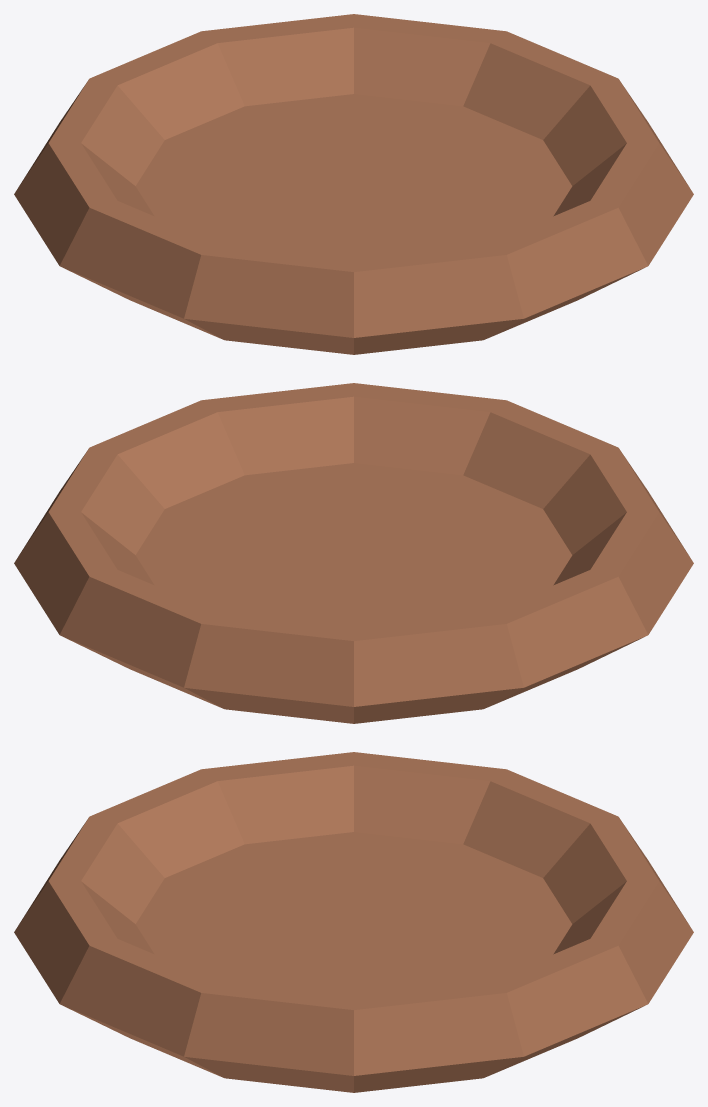
Rendered from Deco_Bowl_02.fbx.
3 renders of one model, top to bottom at view 1: azimuth 30°, elevation 25°; view 2: azimuth 150°, elevation 25°; view 3: azimuth 270°, elevation 25°, orthographic.
Parts seen in each view (by area): view 1: Deco_Bowl_02; view 2: Deco_Bowl_02; view 3: Deco_Bowl_02.
Boxes of the visible parts, x1,y1,x2,y2 form: Deco_Bowl_02: (14, 14, 693, 354); Deco_Bowl_02: (14, 383, 693, 723); Deco_Bowl_02: (14, 752, 693, 1092).
Bounding box in the file's own units: 0.1803 × 0.03 × 0.1803.
